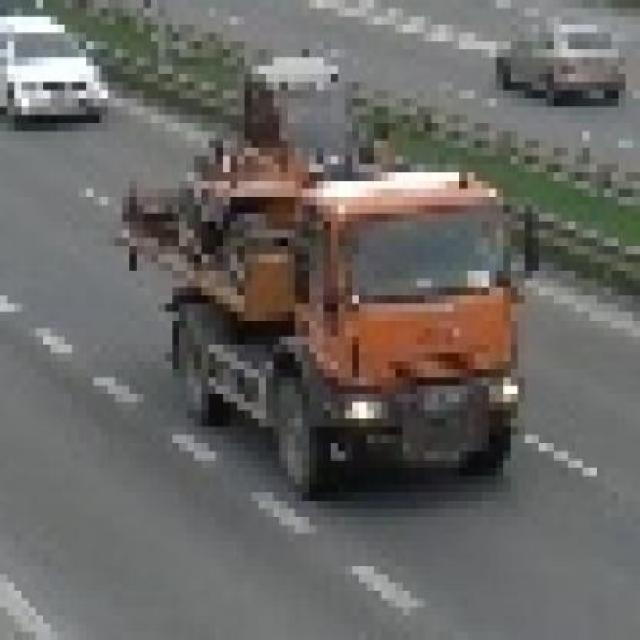truck: (116, 42, 548, 494)
